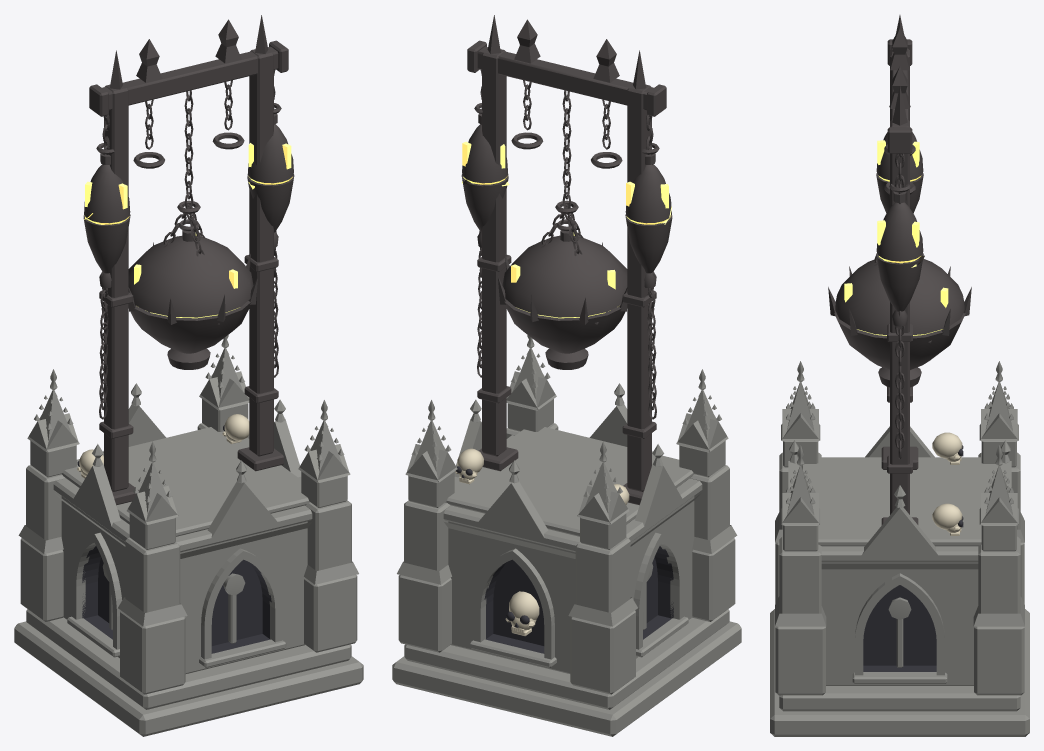
File: tower_censer_3.glb
The picture shows the model from 3 angles, left to right: view 1: azimuth 30°, elevation 25°; view 2: azimuth 150°, elevation 25°; view 3: azimuth 270°, elevation 25°; orthographic projection.
Visible parts, largest first — view 1: tower; view 2: tower; view 3: tower.
Boxes of the visible parts, <box> form: tower: <box>14,15,363,736</box>; tower: <box>392,15,741,736</box>; tower: <box>770,15,1029,736</box>.
Size of the model in its own units: 1.7 by 4.6 by 1.7.
